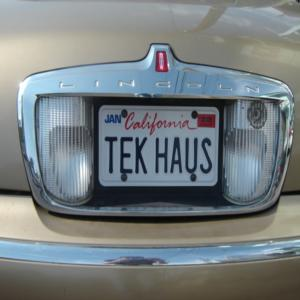Vehicle-registration-plate: (84, 97, 241, 202)
